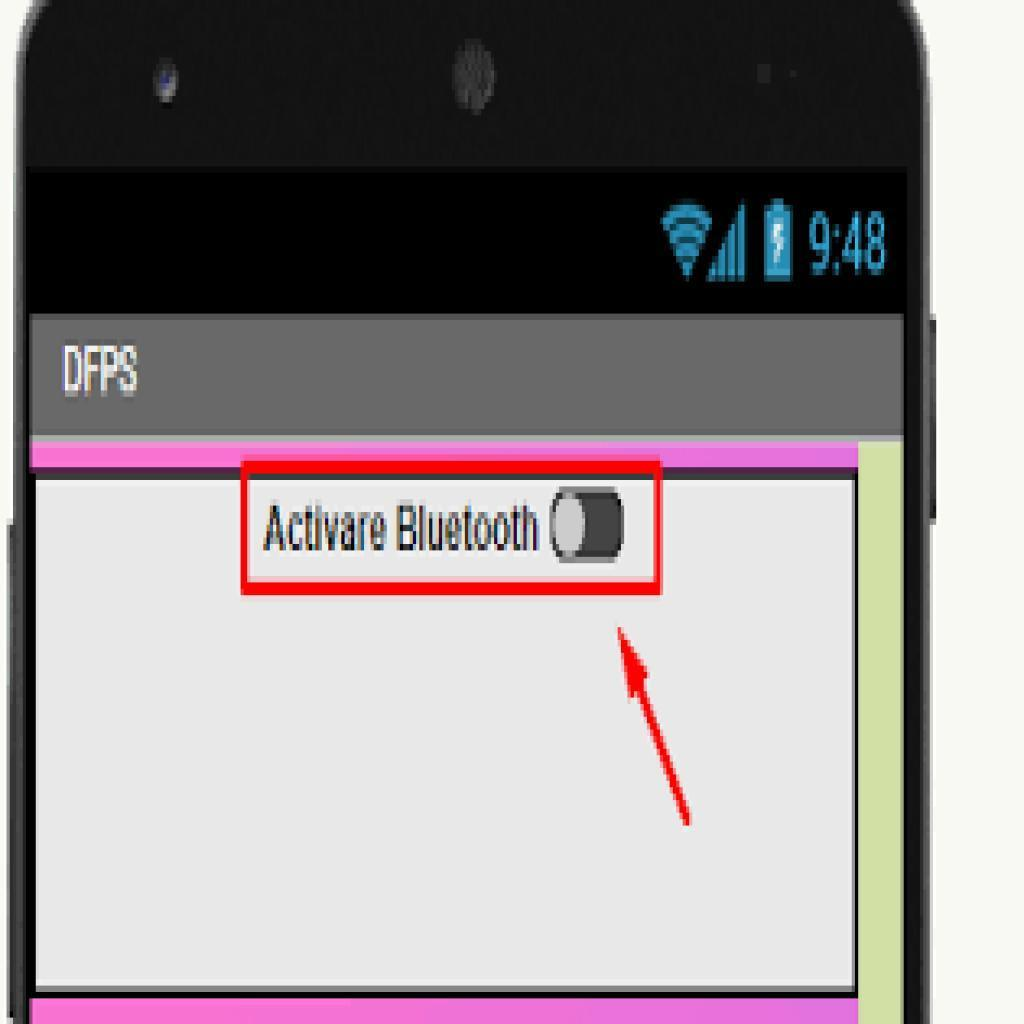label: (259, 504, 540, 568)
switch: (548, 486, 626, 563)
